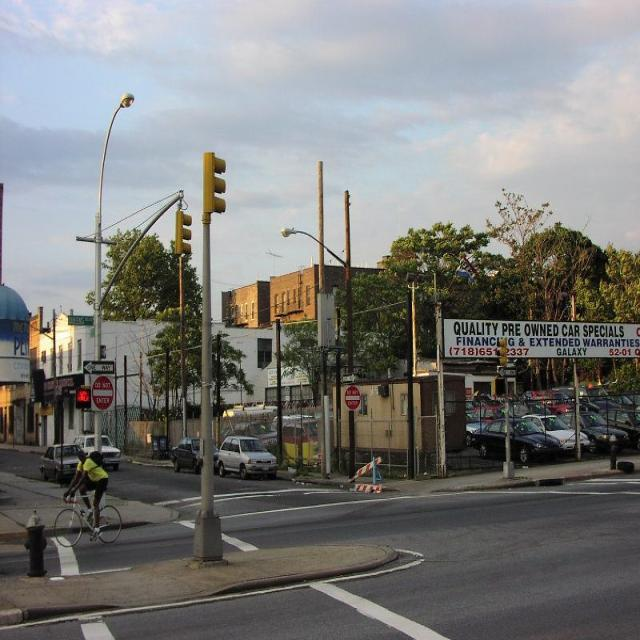Electric pole: (76, 92, 134, 361), (94, 413, 101, 452)
